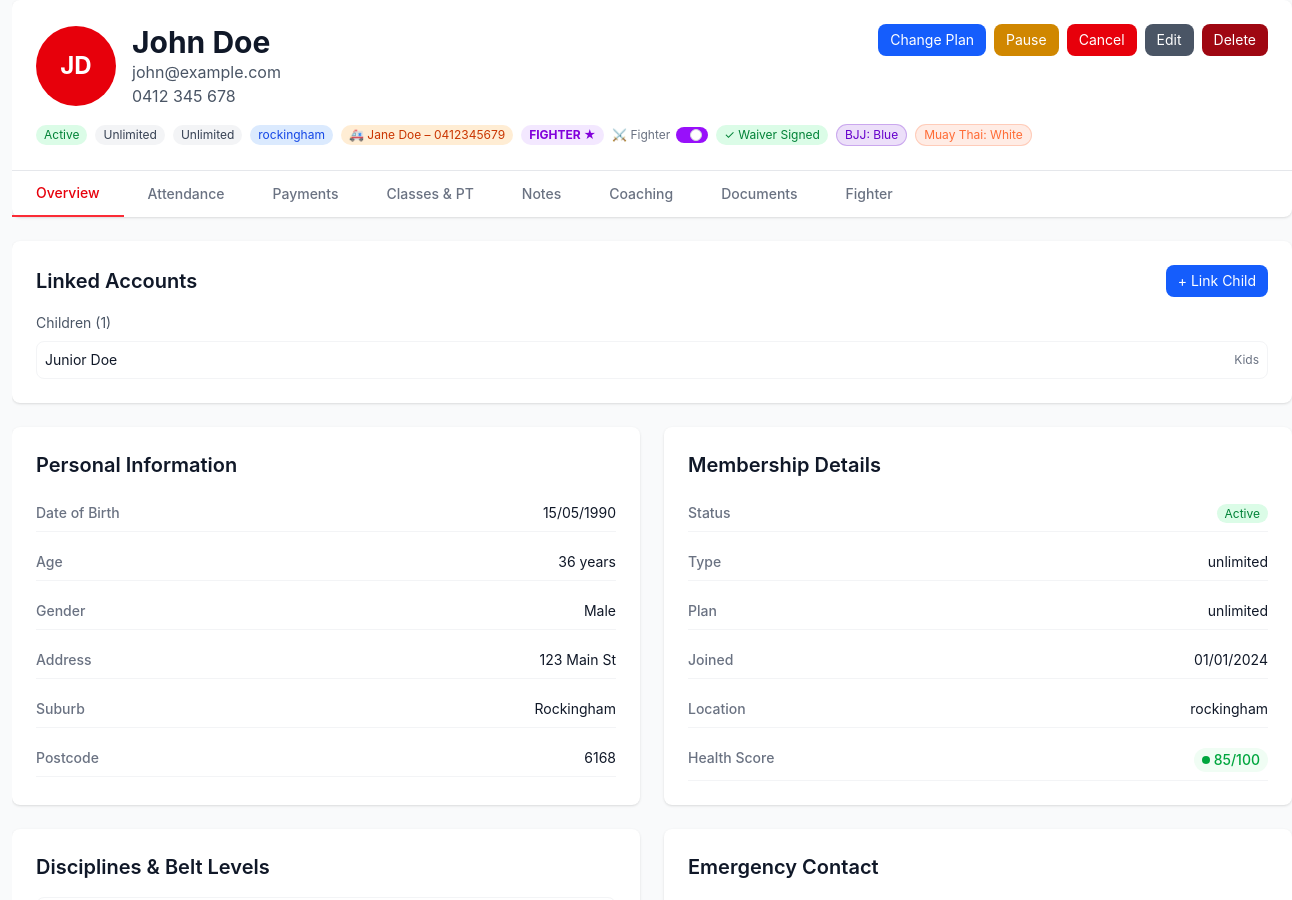
Test case: MemberProfile Page › displays payment history in payments tab
Expected: the heading "John Doe" is shown, left=132, top=24, right=281, bottom=60
Click the button "Payments".
click(306, 194)  # box left=248, top=171, right=362, bottom=217
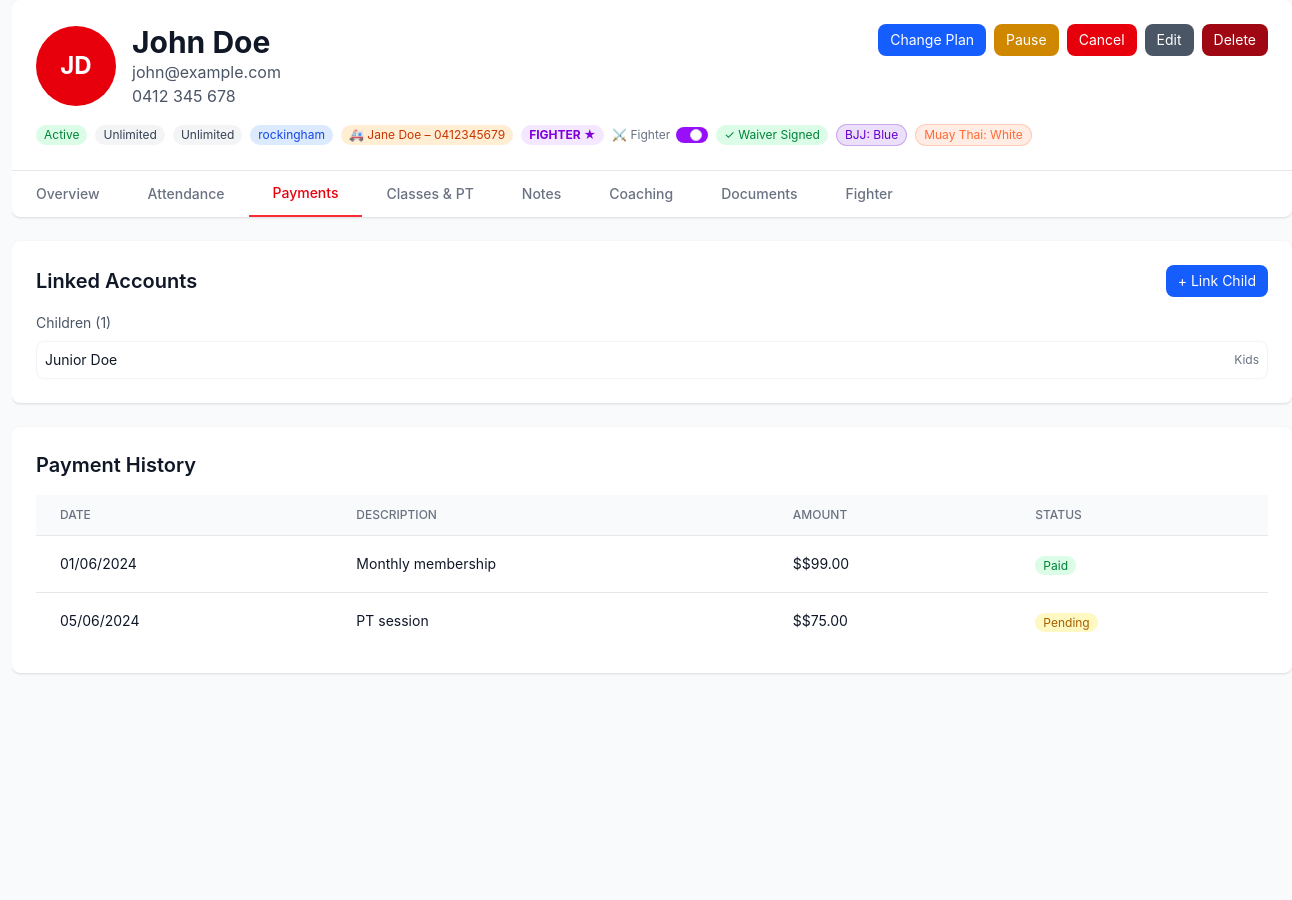
Now the text "Monthly membership" is shown, box left=332, top=536, right=769, bottom=592
Now the text "PT session" is shown, box left=332, top=592, right=769, bottom=649
